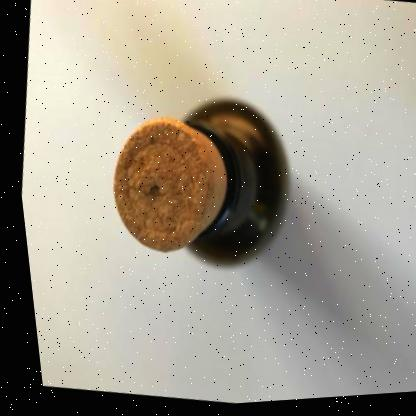Glass: (109, 102, 284, 267)
